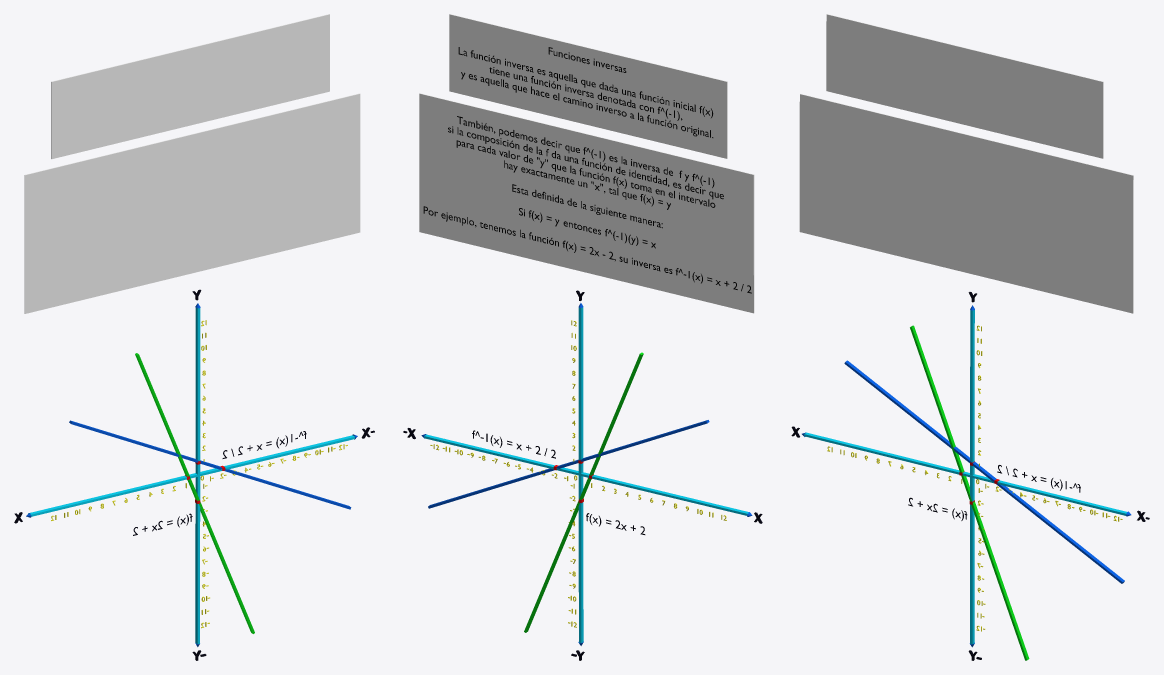
The model's file is f-inversa.fbx.
3 views of the same model, side by side, from view 1: azimuth 30°, elevation 25°; view 2: azimuth 150°, elevation 25°; view 3: azimuth 330°, elevation 25° (orthographic).
Parts seen in each view (by area): view 1: Cubo.005, Cubo.003, Cubo.001, Cubo, Cubo.006, Cubo.007; view 2: Cubo.005, Cubo.003, Text.025, Text.087, Cubo.001, Cubo, Cubo.006, Cubo.007; view 3: Cubo.005, Cubo.003, Cubo.006, Cubo.007, Cubo.001, Cubo.
Boxes of the visible parts, <box> form: Cubo.005: <box>24,93,360,313</box>; Cubo.003: <box>51,14,329,158</box>; Cubo.001: <box>195,308,200,644</box>; Cubo: <box>28,435,354,516</box>; Cubo.006: <box>135,353,254,633</box>; Cubo.007: <box>69,420,351,509</box>; Cubo.005: <box>419,93,754,313</box>; Cubo.003: <box>449,14,727,158</box>; Text.025: <box>423,116,751,293</box>; Text.087: <box>458,47,713,137</box>; Cubo.001: <box>578,307,583,642</box>; Cubo: <box>424,434,748,515</box>; Cubo.006: <box>524,352,643,632</box>; Cubo.007: <box>428,420,709,508</box>; Cubo.005: <box>799,94,1133,313</box>; Cubo.003: <box>826,14,1103,158</box>; Cubo.006: <box>910,325,1029,660</box>; Cubo.007: <box>844,360,1124,583</box>; Cubo.001: <box>970,310,974,644</box>; Cubo: <box>804,432,1126,515</box>.
Bounding box in the file's own units: 599 × 980 × 8.65.
